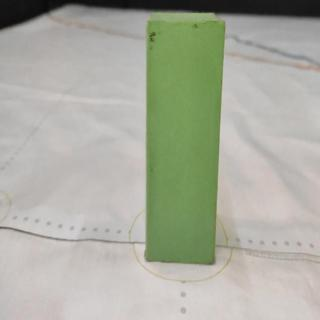greenbox: (138, 14, 231, 265)
